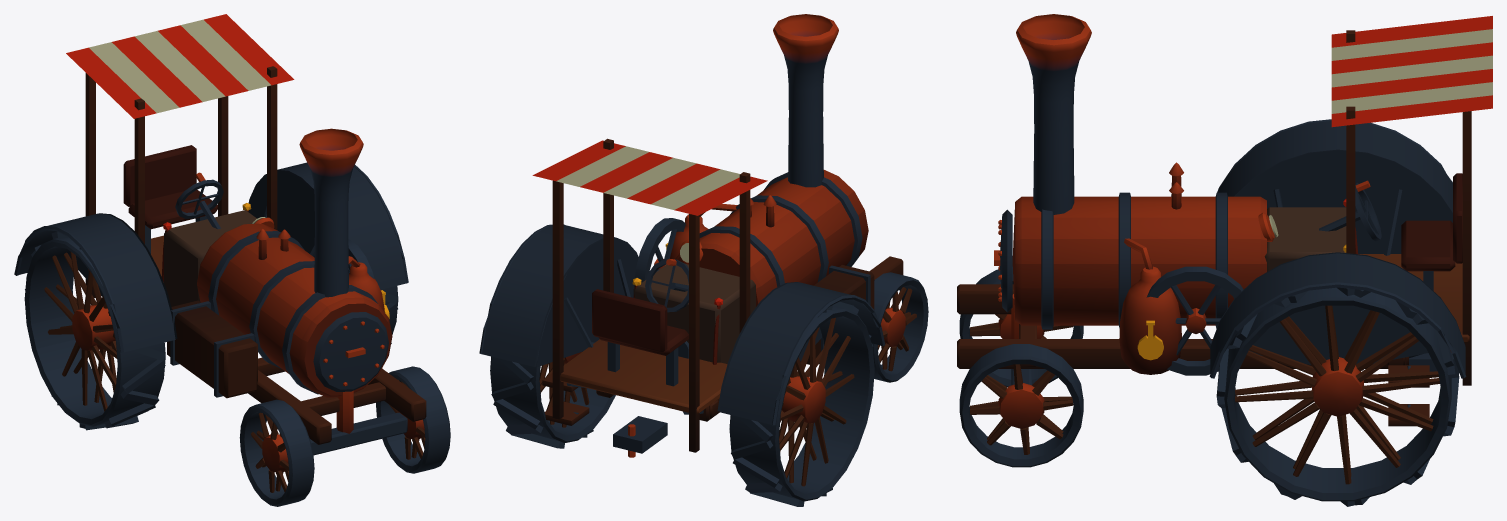
File: Traktor.fbx
The picture shows the model from 3 angles, left to right: view 1: azimuth 30°, elevation 25°; view 2: azimuth 150°, elevation 25°; view 3: azimuth 270°, elevation 25°; orthographic projection. The views are drawn at different scales.
Visible parts, largest first — view 1: SM_Traktor_Govde, Traktor_Arka_Tekerler, Traktor_On_Tekerler, Traktor_On_Aks, Traktor_Direksiyon; view 2: SM_Traktor_Govde, Traktor_Arka_Tekerler, Traktor_On_Tekerler, Traktor_Volan, Traktor_Direksiyon; view 3: SM_Traktor_Govde, Traktor_Arka_Tekerler, Traktor_On_Tekerler, Traktor_Volan, Traktor_Direksiyon.
Part boxes in pixels (left/top/right/bottom): SM_Traktor_Govde: left=14, top=14, right=426, bottom=444; Traktor_Arka_Tekerler: left=24, top=231, right=398, bottom=430; Traktor_On_Tekerler: left=239, top=366, right=450, bottom=506; Traktor_On_Aks: left=310, top=390, right=407, bottom=455; Traktor_Direksiyon: left=175, top=172, right=223, bottom=218; SM_Traktor_Govde: left=479, top=14, right=903, bottom=457; Traktor_Arka_Tekerler: left=490, top=275, right=874, bottom=506; Traktor_On_Tekerler: left=872, top=272, right=928, bottom=382; Traktor_Volan: left=634, top=218, right=685, bottom=286; Traktor_Direksiyon: left=645, top=258, right=688, bottom=312; SM_Traktor_Govde: left=957, top=14, right=1492, bottom=426; Traktor_Arka_Tekerler: left=1216, top=287, right=1459, bottom=506; Traktor_On_Tekerler: left=959, top=267, right=1083, bottom=467; Traktor_Volan: left=1146, top=266, right=1243, bottom=375; Traktor_Direksiyon: left=1355, top=180, right=1381, bottom=241.
Size of the model in its own units: 3.04 by 3.43 by 4.15.
